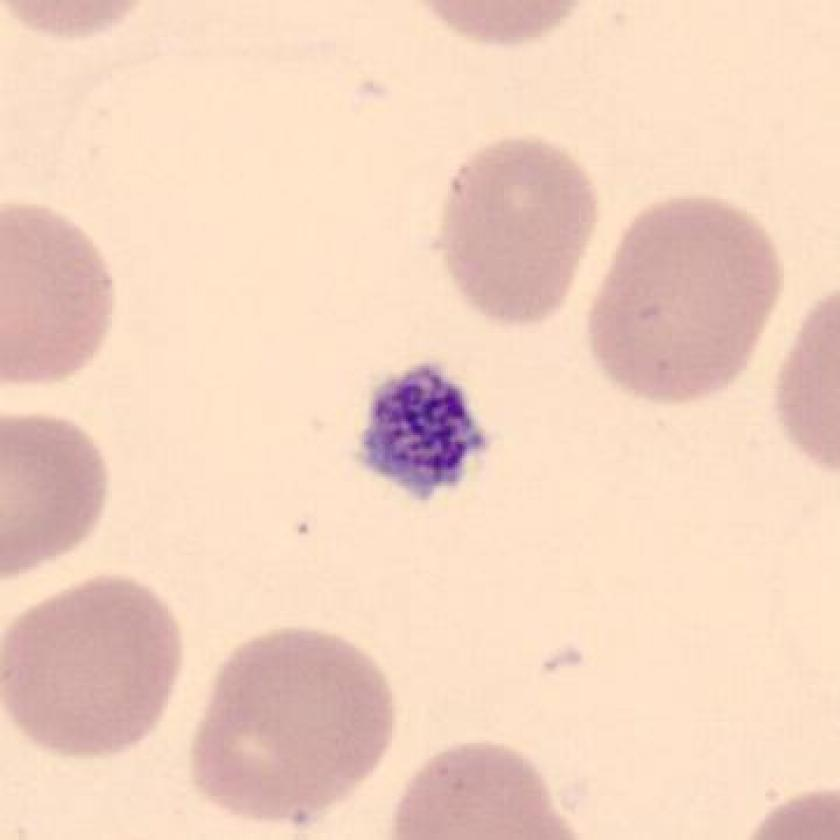platelets: (349, 355, 500, 515)
